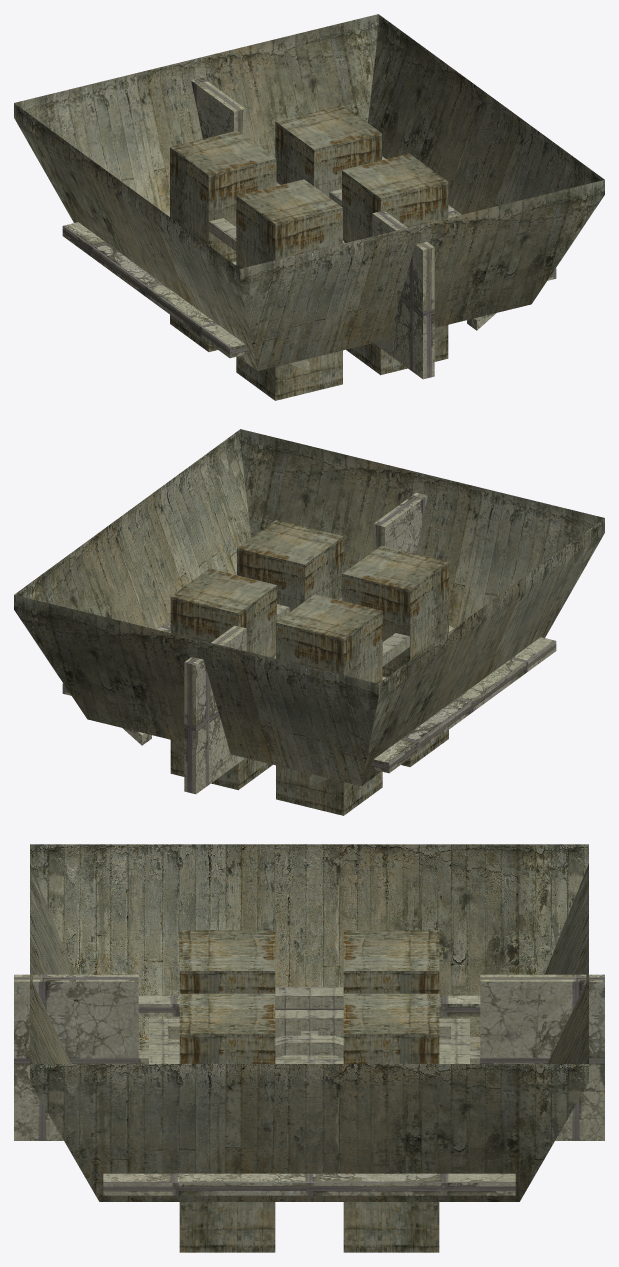
The model's file is SM_LDFest_06.fbx.
3 views of the same model, one above another, from view 1: azimuth 30°, elevation 25°; view 2: azimuth 150°, elevation 25°; view 3: azimuth 270°, elevation 25° (orthographic). The views are drawn at different scales.
Parts seen in each view (by area): view 1: SM_LDFest_06; view 2: SM_LDFest_06; view 3: SM_LDFest_06.
Boxes of the visible parts, x1=… form: SM_LDFest_06: x1=14, y1=14, x2=604, y2=400; SM_LDFest_06: x1=14, y1=429, x2=604, y2=815; SM_LDFest_06: x1=14, y1=844, x2=604, y2=1252.
Size of the model in its own units: 5303 by 2778 by 6034.
